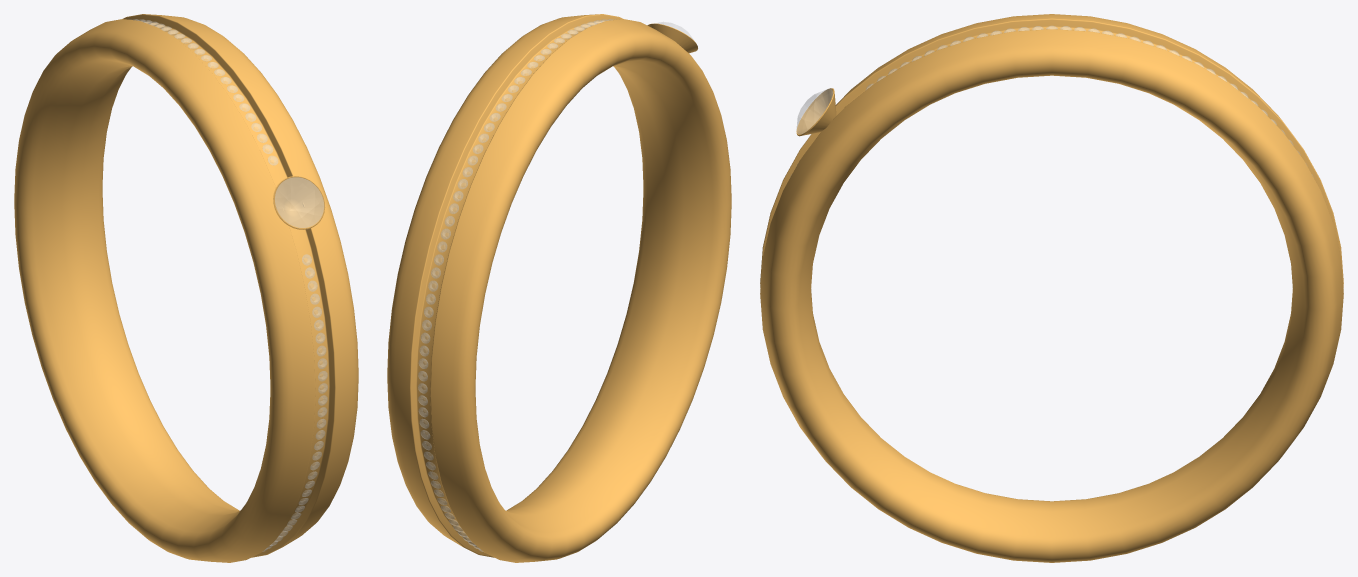
3 renders of one model, left to right at view 1: azimuth 30°, elevation 25°; view 2: azimuth 150°, elevation 25°; view 3: azimuth 270°, elevation 25°, orthographic. The views are drawn at different scales.
Visible parts, largest first — view 1: Ring 2.003, Ring dimaongs cuted.001, Dimond cover.001, Diamond big.001; view 2: Ring 2.003, Ring dimaongs cuted.001, Dimond cover.001; view 3: Ring 2.003, Dimond cover.001, Ring dimaongs cuted.001, Diamond big.001.
Part boxes in pixels (x1,y1,x2,y2): Ring 2.003: (14,14,358,562); Ring dimaongs cuted.001: (130,19,327,551); Dimond cover.001: (273,176,325,229); Diamond big.001: (275,177,323,227); Ring 2.003: (387,14,731,562); Ring dimaongs cuted.001: (418,19,615,551); Dimond cover.001: (647,23,697,53); Ring 2.003: (760,14,1343,562); Dimond cover.001: (796,88,836,136); Ring dimaongs cuted.001: (791,26,1312,175); Diamond big.001: (796,89,832,133).
Size of the model in its own units: 0.00405 by 0.0232 by 0.0232.
